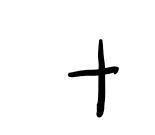plus: (68, 39, 118, 118)
